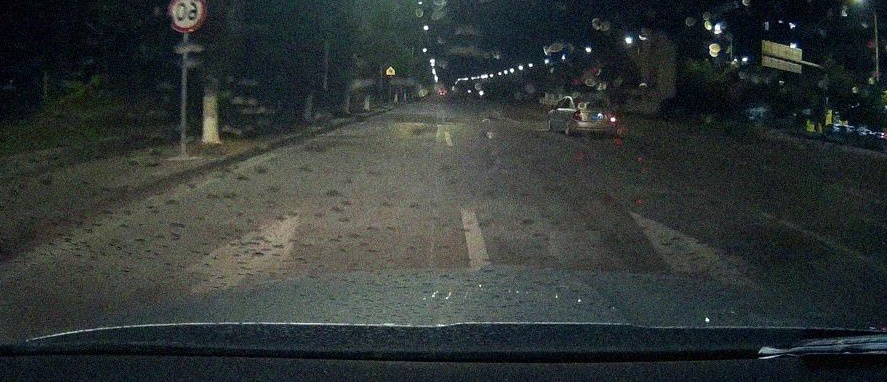L_light: (573, 110, 582, 121)
R_light: (607, 111, 616, 122)
T_light: (584, 98, 590, 100)
night-right: (572, 96, 616, 137)
